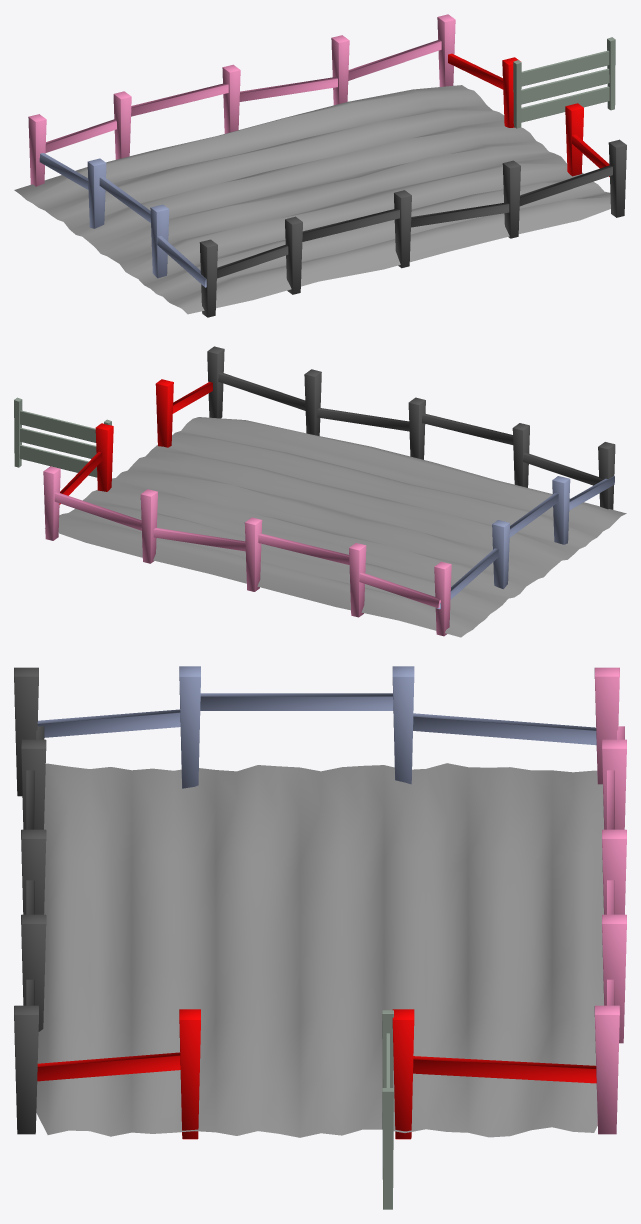
The model's file is farm.FBX.
3 views of the same model, one above another, from view 1: azimuth 30°, elevation 25°; view 2: azimuth 150°, elevation 25°; view 3: azimuth 270°, elevation 25° (orthographic). The views are drawn at different scales.
Visible parts, largest first — view 1: Plane001, ChamferBox001, ChamferBox017, Object001, ChamferBox018, ChamferBox019; view 2: Plane001, ChamferBox017, ChamferBox001, ChamferBox018, Object001, ChamferBox019; view 3: Plane001, ChamferBox018, ChamferBox001, ChamferBox017, ChamferBox019, Object001.
Part boxes in pixels (bbox=[...]): Plane001: bbox=[14, 85, 610, 314]; ChamferBox001: bbox=[199, 139, 626, 317]; ChamferBox017: bbox=[28, 14, 455, 186]; Object001: bbox=[513, 37, 615, 128]; ChamferBox018: bbox=[39, 153, 206, 287]; ChamferBox019: bbox=[448, 53, 609, 176]; Plane001: bbox=[45, 417, 626, 637]; ChamferBox017: bbox=[43, 466, 451, 636]; ChamferBox001: bbox=[207, 346, 615, 509]; ChamferBox018: bbox=[436, 476, 614, 609]; Object001: bbox=[14, 397, 111, 477]; ChamferBox019: bbox=[59, 379, 212, 504]; Plane001: bbox=[36, 763, 603, 1137]; ChamferBox018: bbox=[37, 666, 596, 788]; ChamferBox001: bbox=[14, 667, 46, 1134]; ChamferBox017: bbox=[594, 667, 626, 1134]; ChamferBox019: bbox=[37, 1009, 596, 1139]; Object001: bbox=[382, 1010, 393, 1209].
Size of the model in its own units: 170 by 22.72 by 100.
